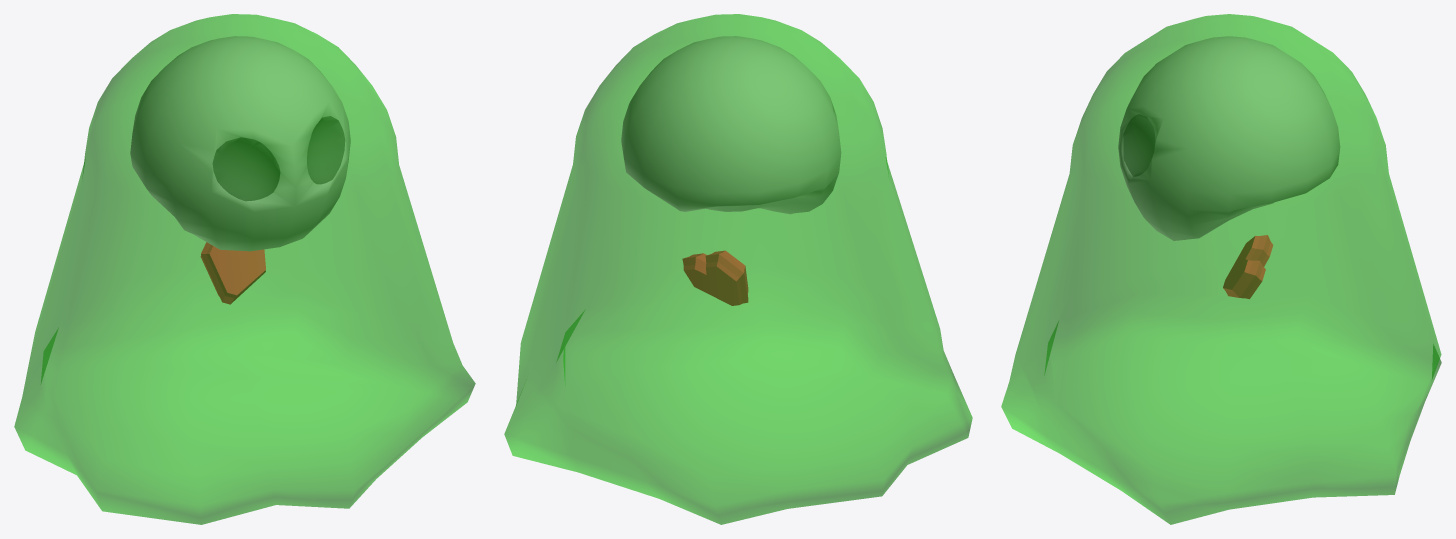
Rendered from Slime.glb.
3 views of the same model, side by side, from view 1: azimuth 30°, elevation 25°; view 2: azimuth 150°, elevation 25°; view 3: azimuth 270°, elevation 25° (orthographic).
Visible parts, largest first — view 1: Sphere.001, Sphere, Cube; view 2: Sphere.001, Sphere, Cube; view 3: Sphere.001, Sphere, Cube.
Part boxes in pixels (x1=…): Sphere.001: x1=14, y1=14, x2=475, y2=524; Sphere: x1=130, y1=36, x2=350, y2=251; Cube: x1=200, y1=242, x2=265, y2=304; Sphere.001: x1=504, y1=14, x2=972, y2=524; Sphere: x1=621, y1=36, x2=841, y2=214; Cube: x1=682, y1=250, x2=748, y2=305; Sphere.001: x1=1001, y1=14, x2=1441, y2=524; Sphere: x1=1118, y1=36, x2=1340, y2=240; Cube: x1=1223, y1=235, x2=1272, y2=298.
Size of the model in its own units: 1.3 by 1.26 by 1.26.
